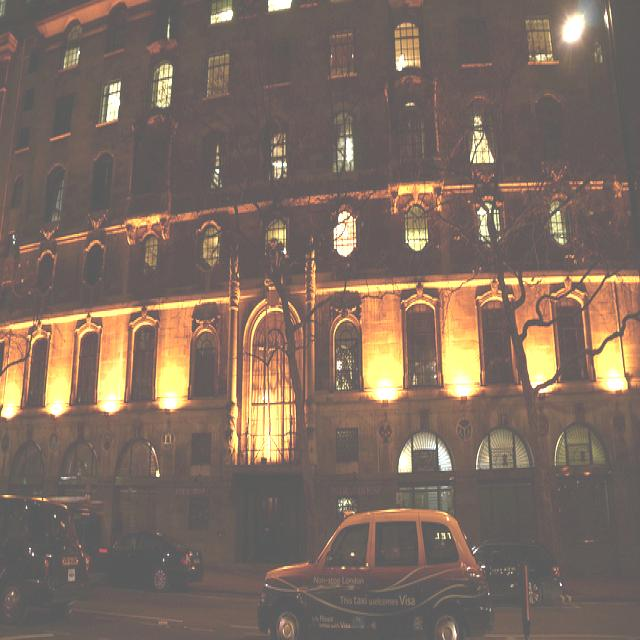Car: (254, 506, 495, 640)
